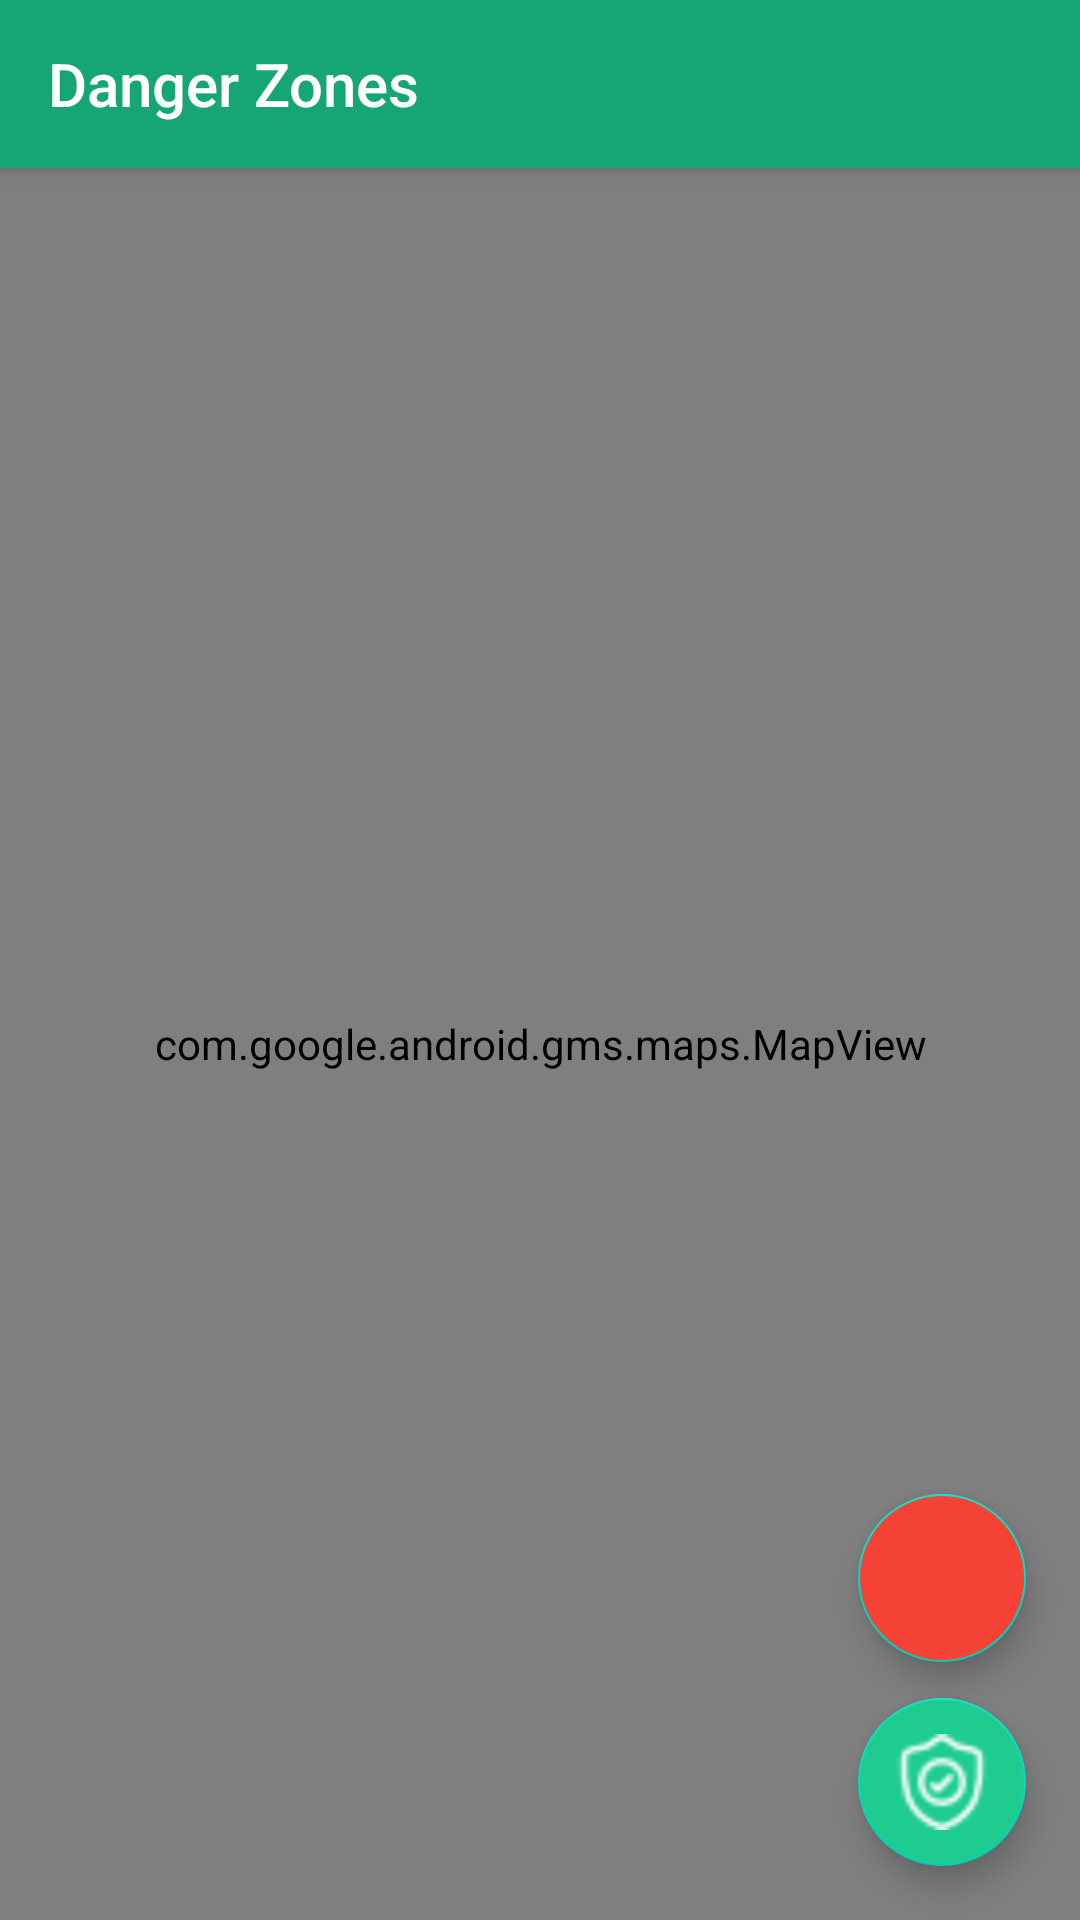

Point at icon controls on the screen. Image size 1080*1920, points as (x,y).
safe: (942,1782)
